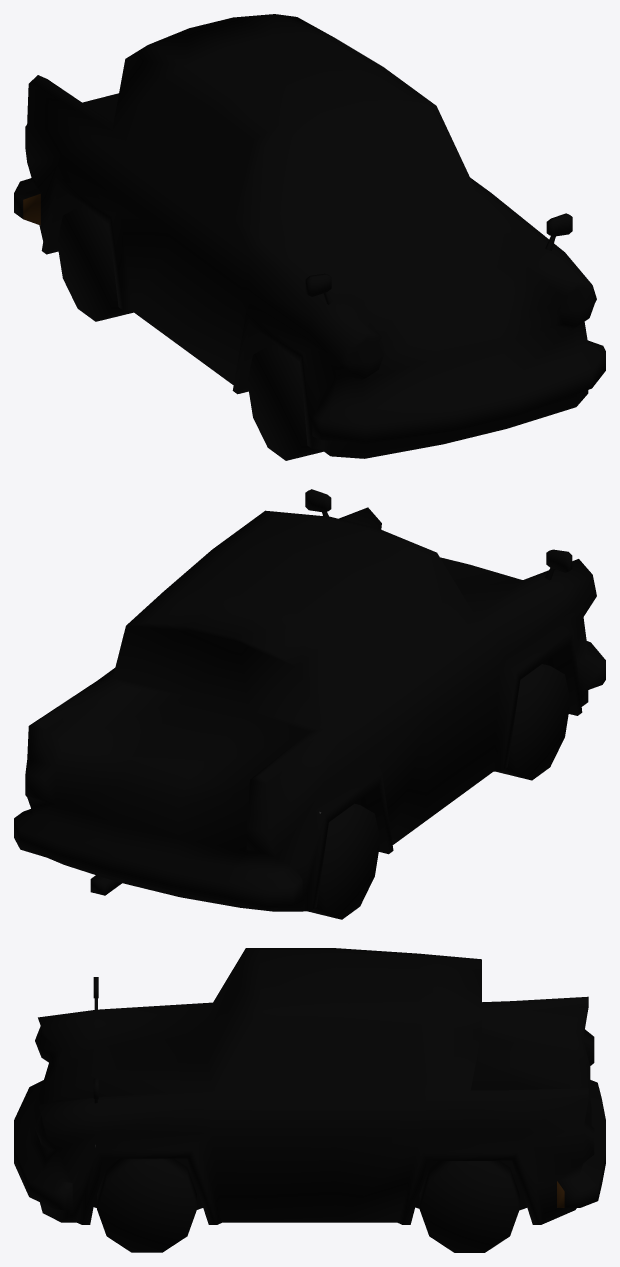
3 views of the same model, one above another, from view 1: azimuth 30°, elevation 25°; view 2: azimuth 150°, elevation 25°; view 3: azimuth 270°, elevation 25° (orthographic). The views are drawn at different scales.
Visible parts, largest first — view 1: T1L1M004_16; view 2: T1L1M004_16; view 3: T1L1M004_16.
Part boxes in pixels (x1,y1,x2,y2): T1L1M004_16: (14,14,605,460); T1L1M004_16: (14,489,605,919); T1L1M004_16: (14,948,605,1252).
Bounding box in the file's own units: 2.54 × 2.23 × 5.27.
